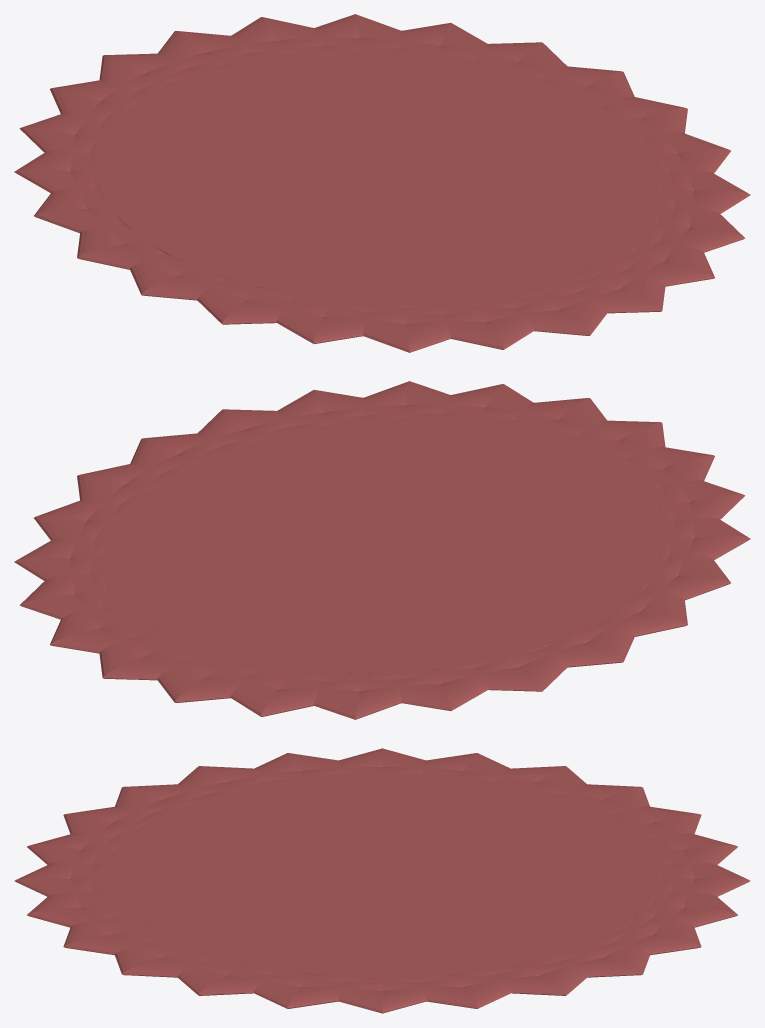
Rendered from Dazzling Kasi-Kieran.glb.
3 renders of one model, top to bottom at view 1: azimuth 30°, elevation 25°; view 2: azimuth 150°, elevation 25°; view 3: azimuth 270°, elevation 25°, orthographic. The views are drawn at different scales.
Visible parts, largest first — view 1: Mesh_Mesh_head_geo.001_lambert2SG.001; view 2: Mesh_Mesh_head_geo.001_lambert2SG.001; view 3: Mesh_Mesh_head_geo.001_lambert2SG.001.
Boxes of the visible parts, bbox=[...] form: Mesh_Mesh_head_geo.001_lambert2SG.001: bbox=[14, 14, 750, 352]; Mesh_Mesh_head_geo.001_lambert2SG.001: bbox=[14, 381, 750, 719]; Mesh_Mesh_head_geo.001_lambert2SG.001: bbox=[14, 748, 750, 1013].
Bounding box in the file's own units: 0.084 × 0.001 × 0.099.
